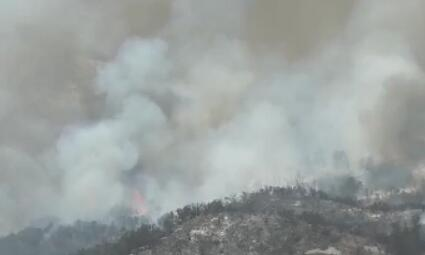yanwu: (0, 1, 424, 237)
